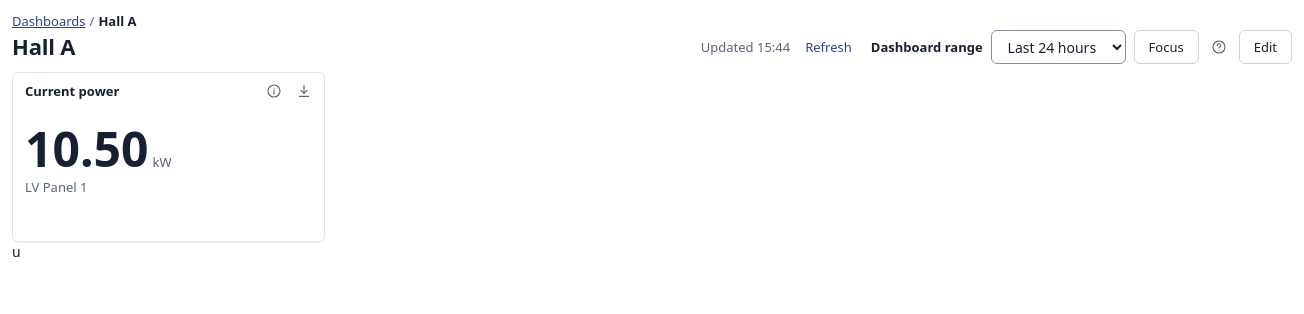
Test: who can edit › lets an operator enter edit mode and cancel back to the view without being asked when nothing changed
Click the button "Edit" at (1265, 47), box [1239,30,1292,64]
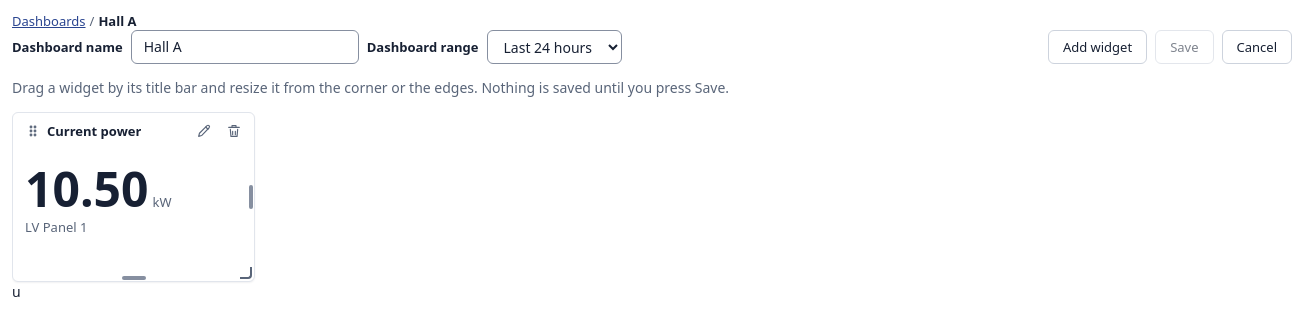
expect the button "Add widget" is enabled: met, box [1048,30,1147,64]
expect the field labelled "Dashboard name" holds "Hall A": met, box [131,30,359,64]
expect the button "Save" is disabled: met, box [1155,30,1214,64]
Click the button "Cancel" at (1257, 47), box [1222,30,1292,64]
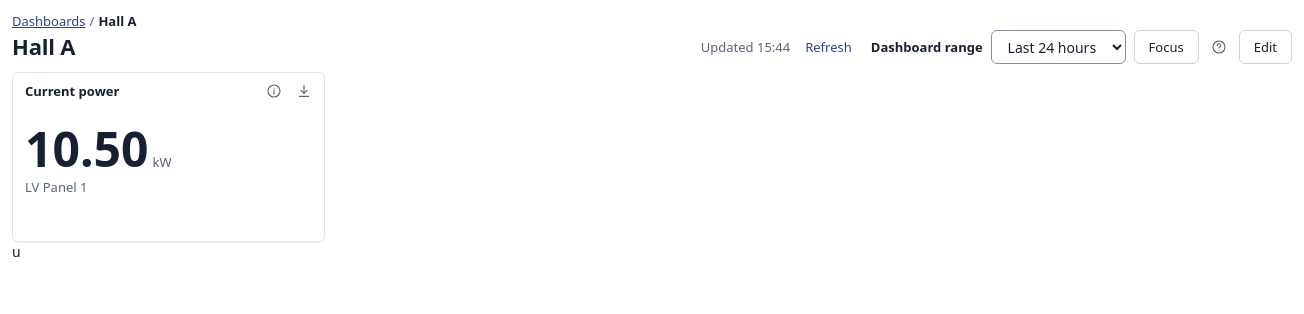
expect the heading "Hall A" is shown: met, box [12,33,75,61]
expect the button "Edit" is shown: met, box [1239,30,1292,64]
